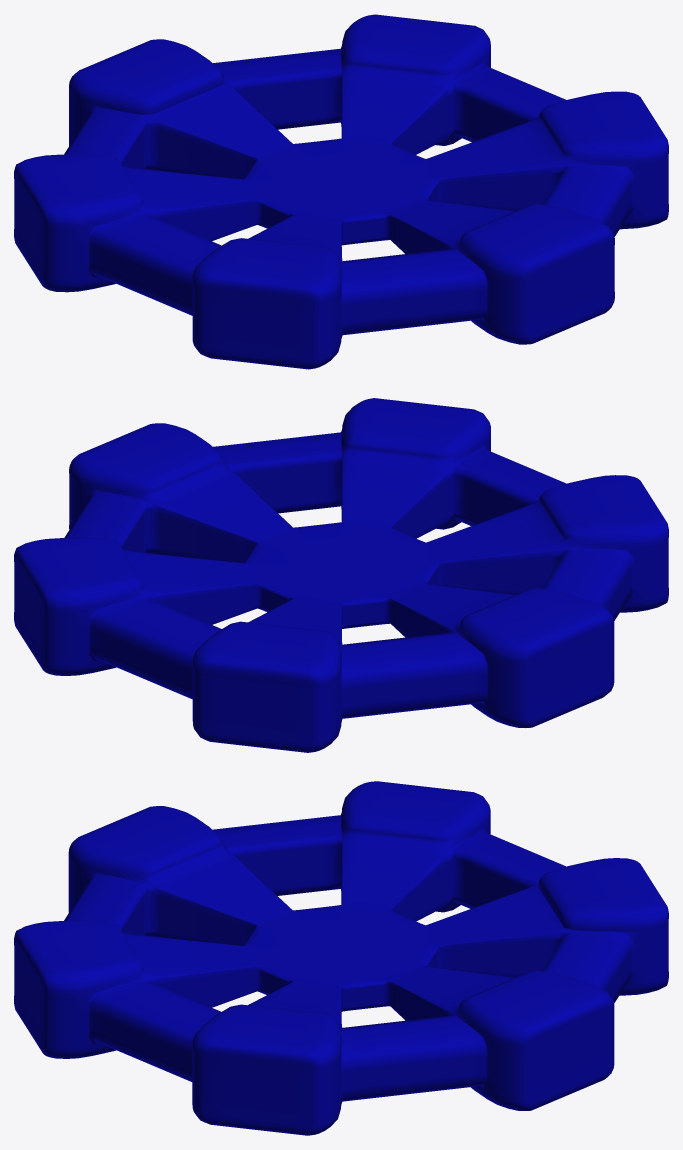
The model's file is ValveBlue.fbx.
3 renders of one model, top to bottom at view 1: azimuth 30°, elevation 25°; view 2: azimuth 150°, elevation 25°; view 3: azimuth 270°, elevation 25°, orthographic.
Parts seen in each view (by area): view 1: pCylinder5; view 2: pCylinder5; view 3: pCylinder5.
Boxes of the visible parts, left/top/right/bottom form: pCylinder5: left=14, top=14, right=668, bottom=369; pCylinder5: left=14, top=398, right=668, bottom=752; pCylinder5: left=14, top=781, right=668, bottom=1135.
Size of the model in its own units: 11.27 by 1.64 by 11.28.
